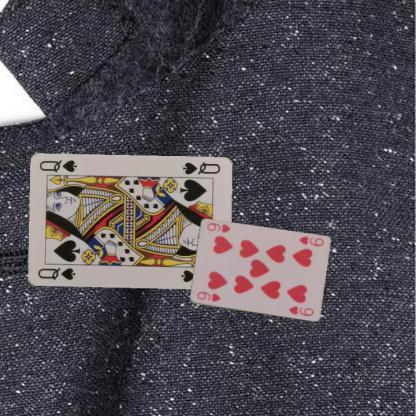9h: (296, 233, 325, 248), (194, 289, 222, 303)
Qs: (36, 265, 76, 282), (180, 160, 221, 176)
